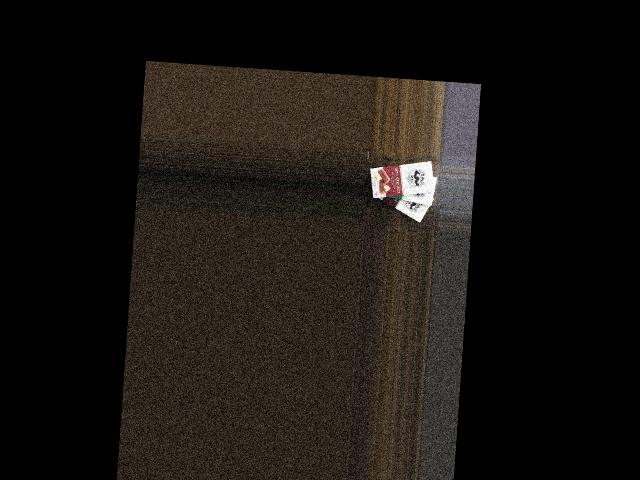chocolate: (367, 177, 436, 224)
